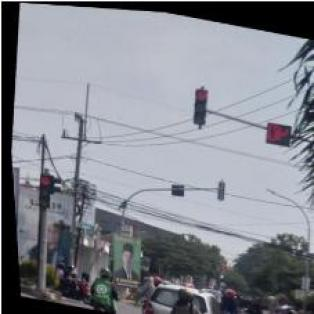Semaforo Rojo: (188, 82, 208, 123), (32, 173, 50, 210)
